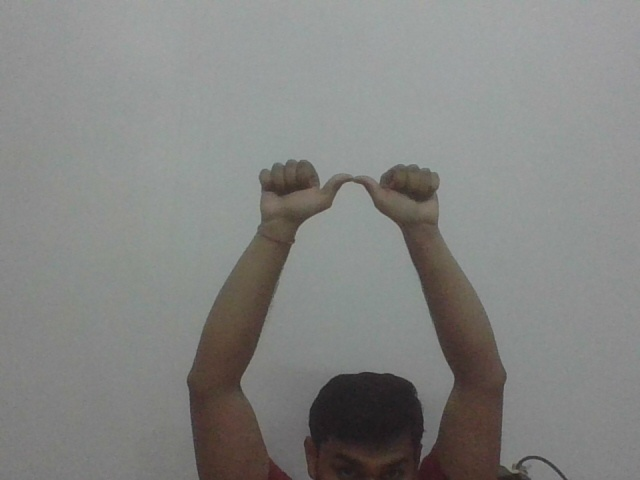A: (256, 157, 448, 225)
